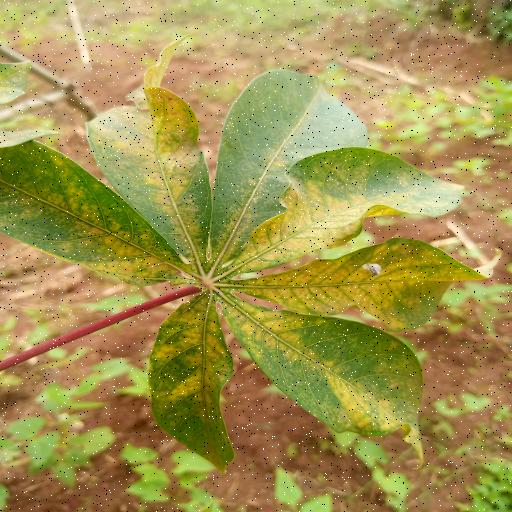Cassava_Mosaic: (5, 64, 512, 474)
